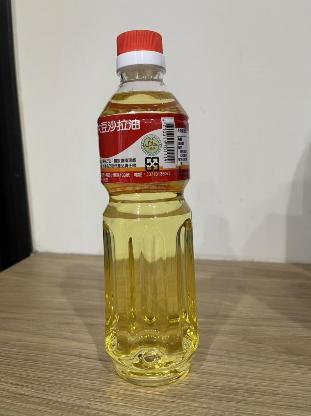Plastic Bottle: (90, 25, 210, 398)
